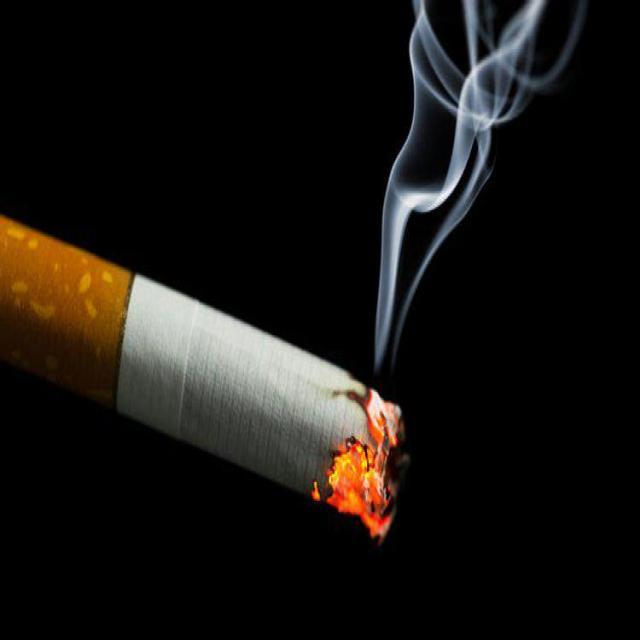cigarette: (0, 210, 421, 541)
